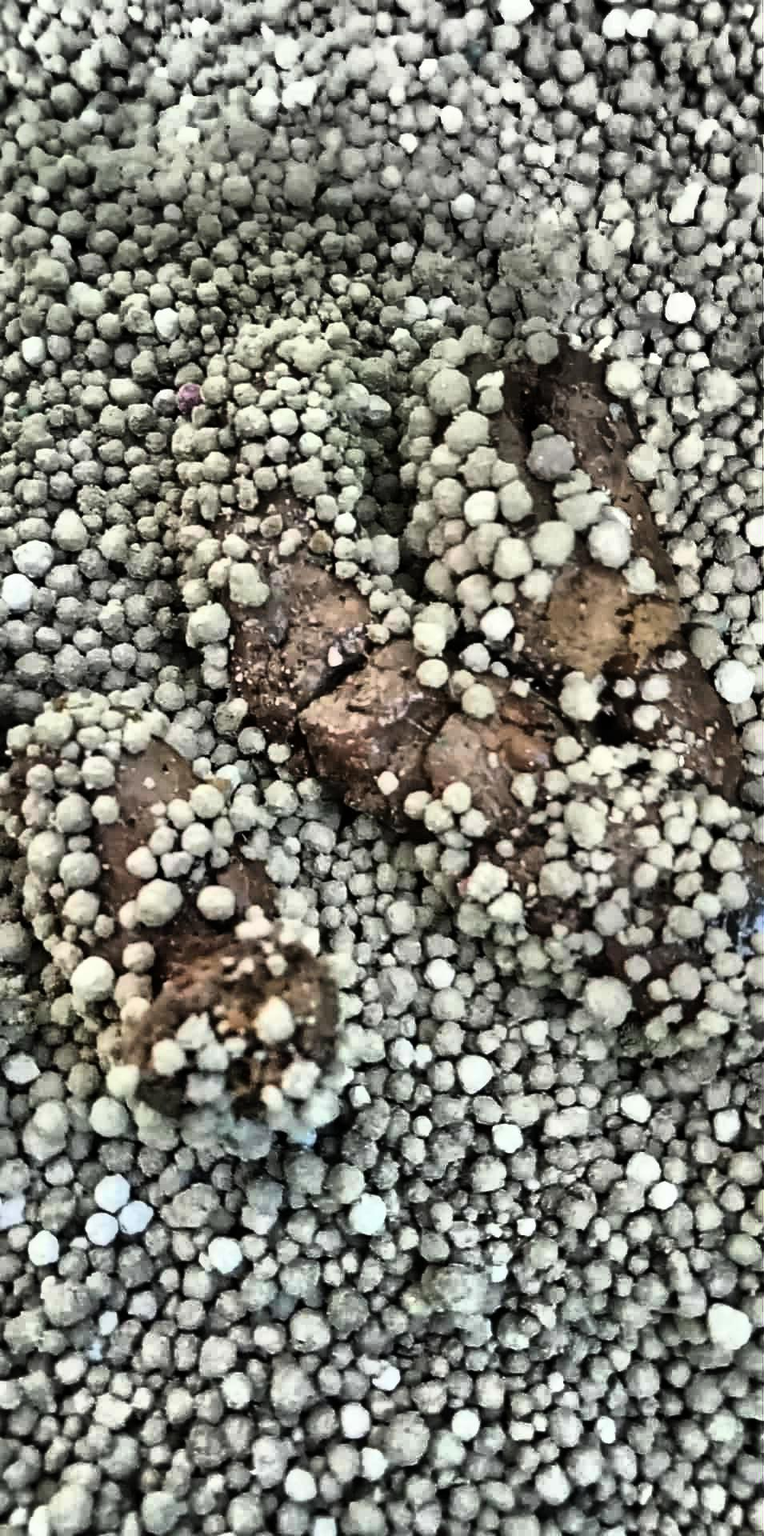litter_sand: (460, 428, 667, 603)
poop: (172, 348, 763, 1040), (406, 342, 743, 801), (5, 693, 351, 1138)
